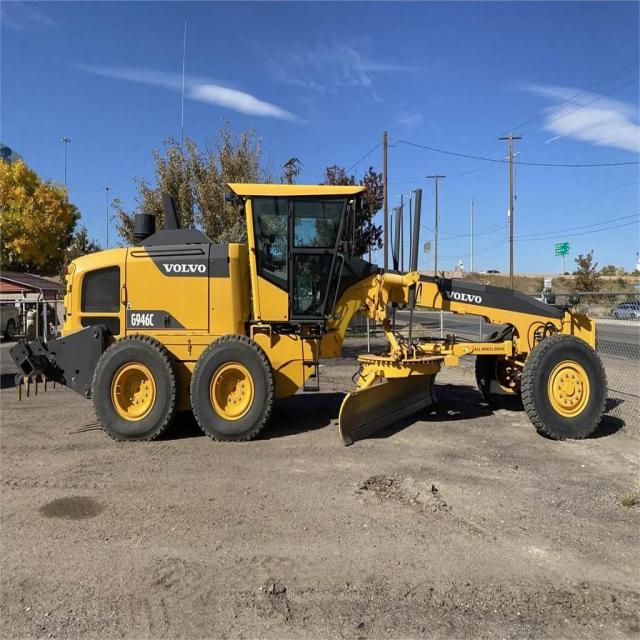Grader: (14, 164, 612, 452)
